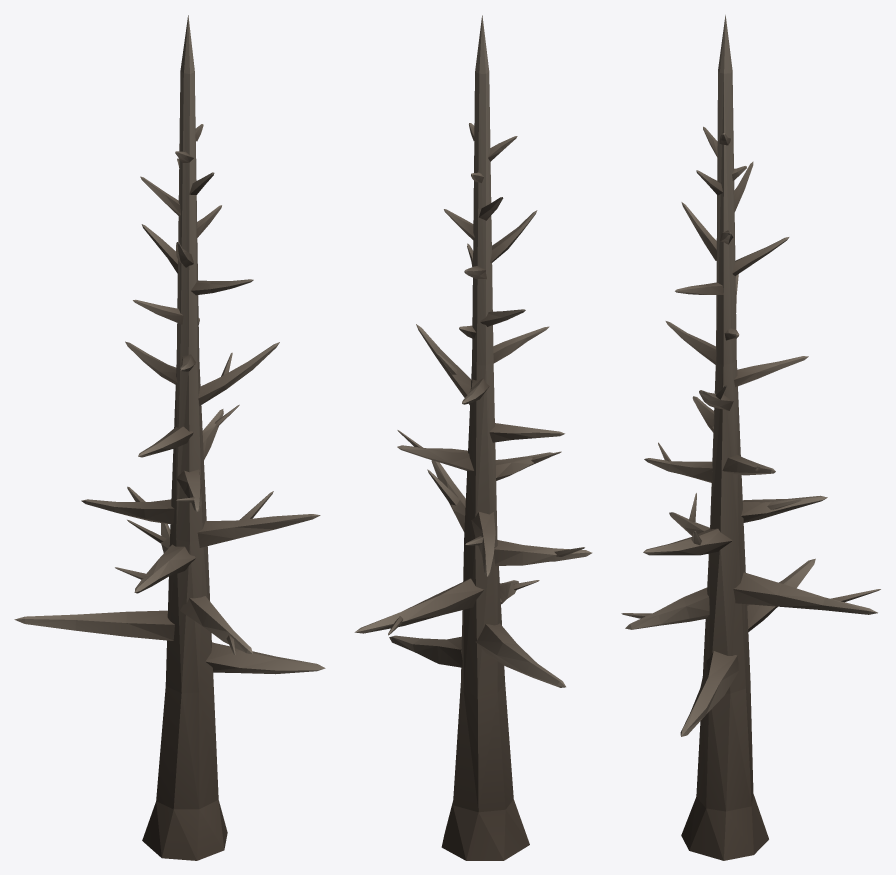
Rendered from dead_M_std_s3.glb.
3 views of the same model, side by side, from view 1: azimuth 30°, elevation 25°; view 2: azimuth 150°, elevation 25°; view 3: azimuth 270°, elevation 25° (orthographic).
Parts seen in each view (by area): view 1: Tree; view 2: Tree; view 3: Tree.
Boxes of the visible parts, <box> form: Tree: <box>14,15,325,860</box>; Tree: <box>354,15,592,860</box>; Tree: <box>621,15,880,860</box>.
Size of what is drawn, in the model's own units: 1.85 by 6 by 1.71.
